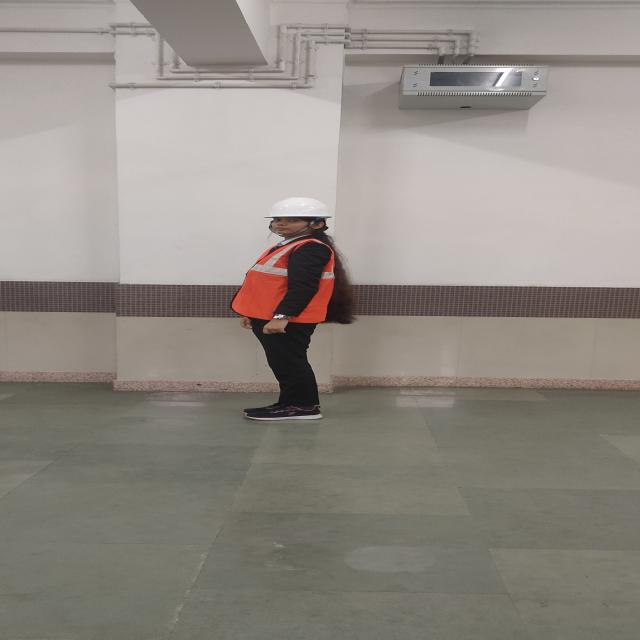safe: (230, 198, 350, 420)
